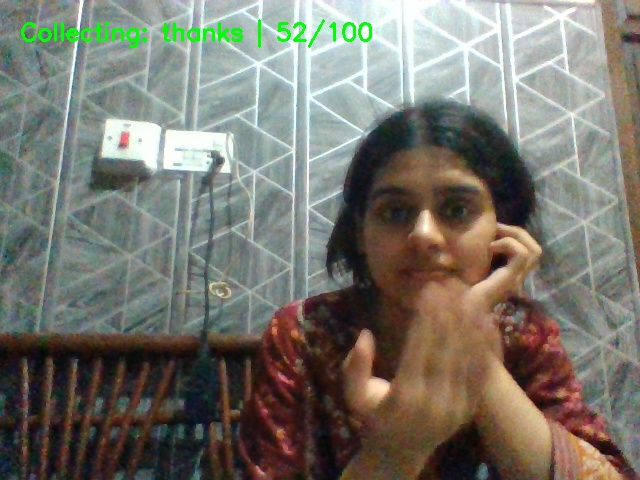thanks: (334, 277, 522, 479)
